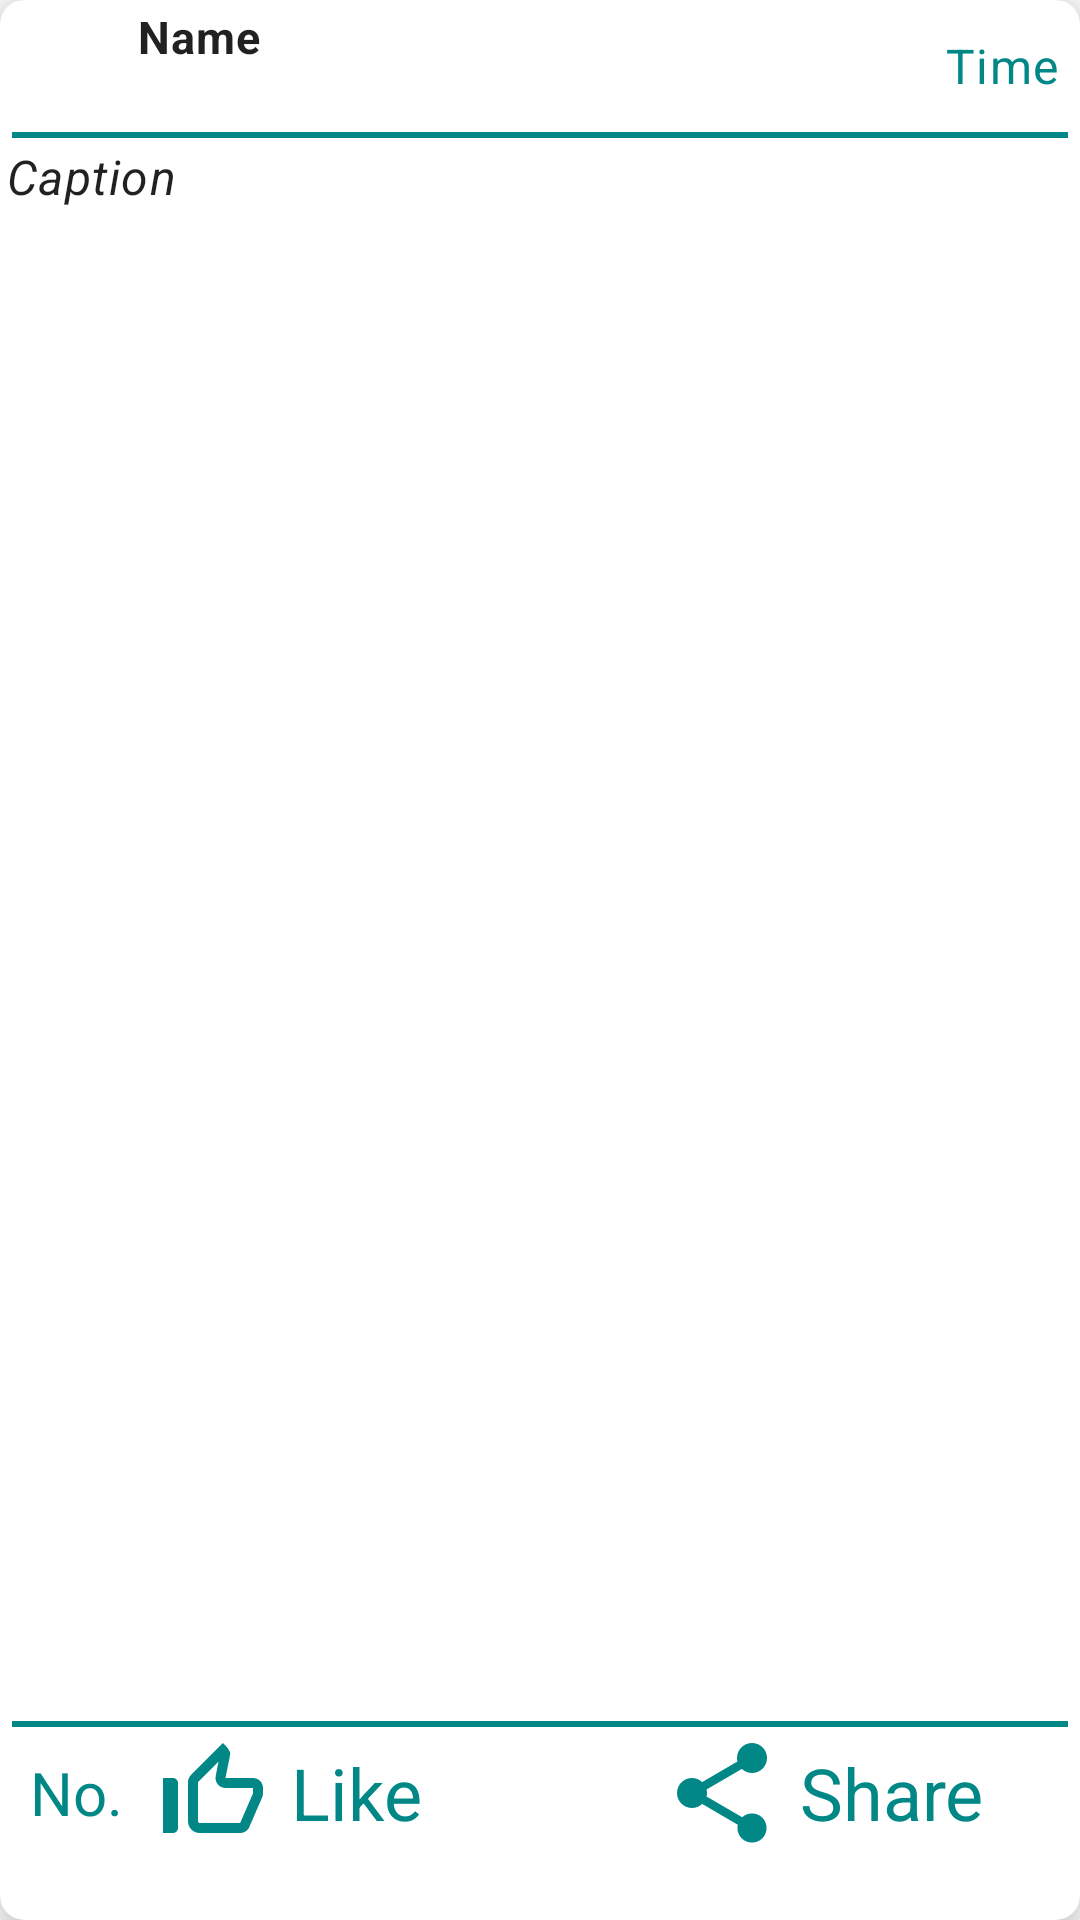

Where to tap for icons on this 1080 x 1920 app screen, as (x,y):
thumb up: (213,1788)
